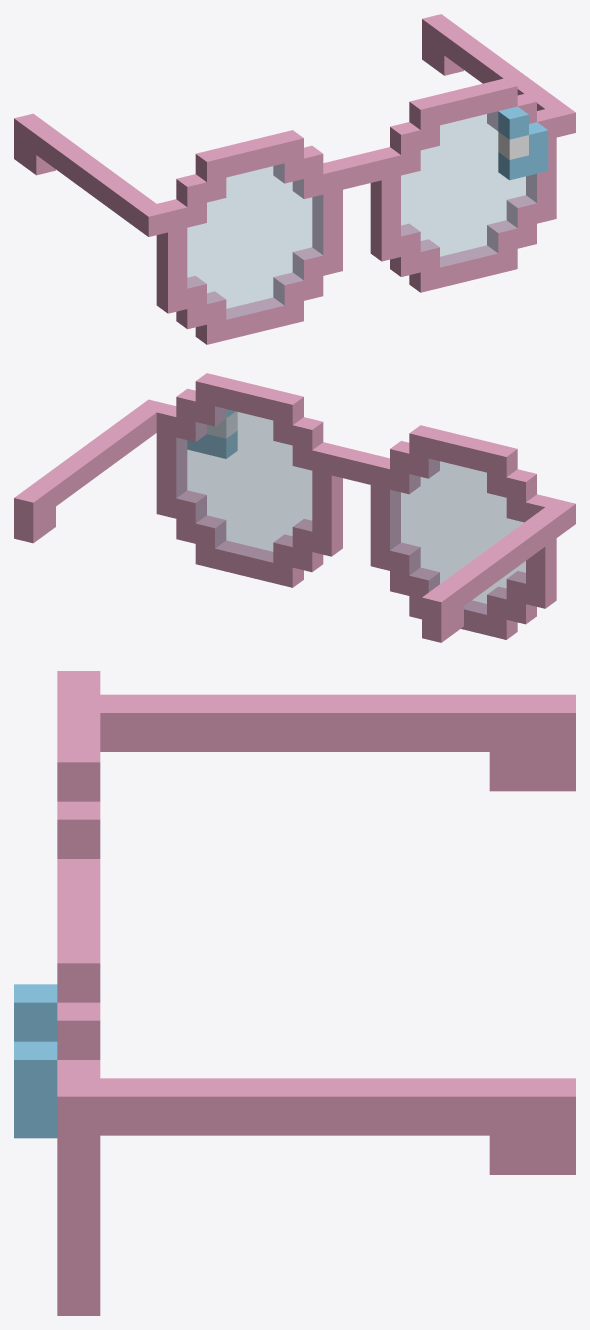
File: angie-acc2.ea0a40df.glb
The picture shows the model from 3 angles, top to bottom: view 1: azimuth 30°, elevation 25°; view 2: azimuth 150°, elevation 25°; view 3: azimuth 270°, elevation 25°; orthographic projection. The views are drawn at different scales.
Visible parts, largest first — view 1: montura, cristales, gota_rocio, gota_brillo; view 2: montura, cristales, gota_rocio, gota_brillo; view 3: montura, gota_rocio.
Boxes of the visible parts, <box> form: montura: <box>14,14,575,344</box>; cristales: <box>187,111,536,319</box>; gota_rocio: <box>498,106,548,180</box>; gota_brillo: <box>498,132,528,159</box>; montura: <box>14,373,575,642</box>; cristales: <box>176,406,525,614</box>; gota_rocio: <box>187,409,237,458</box>; gota_brillo: <box>207,411,237,438</box>; montura: <box>57,671,575,1315</box>; gota_rocio: <box>14,984,57,1138</box>.
Size of the model in its own units: 0.396 by 0.162 by 0.234.
